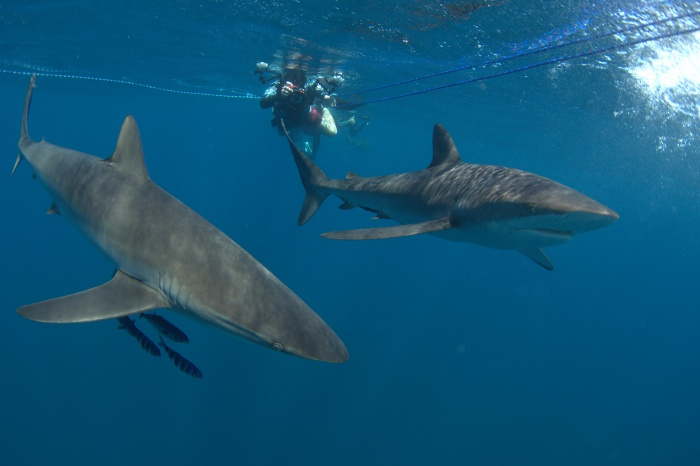Sedoso: (256, 113, 635, 280)
